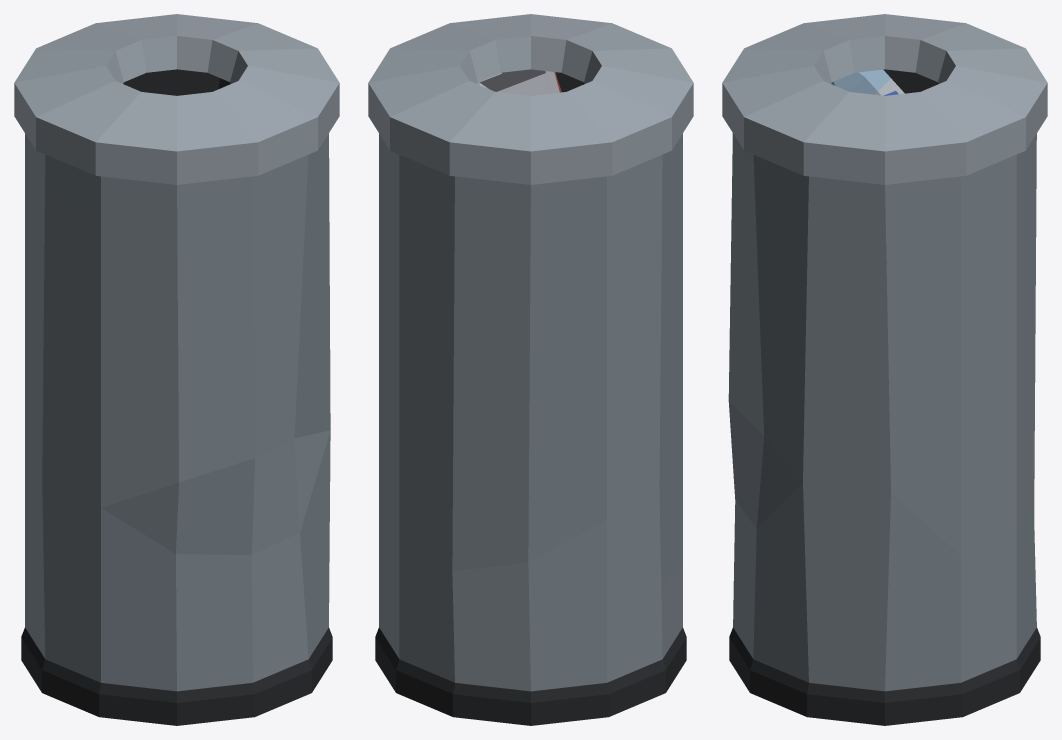
File: waste-bin.glb
3 views of the same model, side by side, from view 1: azimuth 30°, elevation 25°; view 2: azimuth 150°, elevation 25°; view 3: azimuth 270°, elevation 25° (orthographic).
Visible parts, largest first — view 1: SM_Prop_Rubbish_Bin_01; view 2: SM_Prop_Rubbish_Bin_01; view 3: SM_Prop_Rubbish_Bin_01.
Part boxes in pixels (box(x1,y1,x2,y2)): SM_Prop_Rubbish_Bin_01: box(14, 14, 339, 725); SM_Prop_Rubbish_Bin_01: box(368, 14, 693, 725); SM_Prop_Rubbish_Bin_01: box(722, 14, 1047, 725).
Bounding box in the file's own units: 0.4425 × 0.8916 × 0.4425.
Materials: 1 (1 with a texture image).
